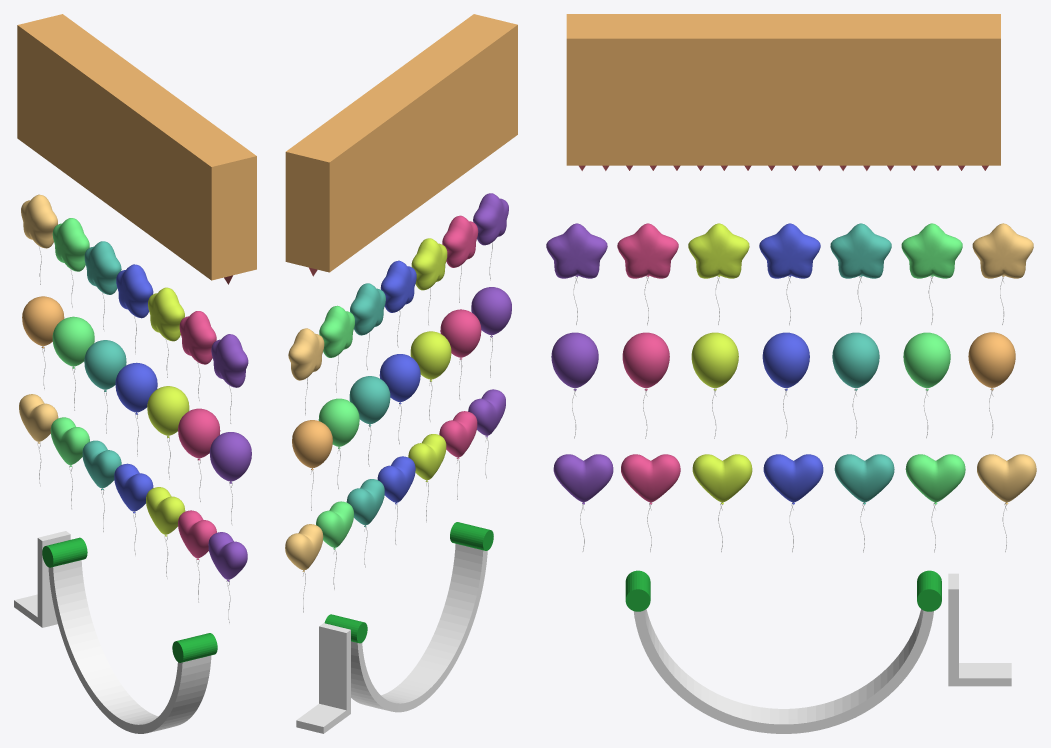
File: Baloniki 3.fbx
3 renders of one model, left to right at view 1: azimuth 30°, elevation 25°; view 2: azimuth 150°, elevation 25°; view 3: azimuth 270°, elevation 25°, orthographic. The views are drawn at different scales.
Parts seen in each view (by area): view 1: Torus.019, Torus, Cube.001, NurbsPath.020, NurbsPath.022, NurbsPath.031, NurbsPath.025, NurbsPath.030, NurbsPath.024, NurbsPath.007, NurbsPath.016, NurbsPath.041 (+12 smaller); view 2: Torus.019, Torus, Cube.001, NurbsPath.007, NurbsPath.024, NurbsPath.030, NurbsPath.020, NurbsPath.022, NurbsPath.025, NurbsPath.031, NurbsPath.044, NurbsPath.038 (+12 smaller); view 3: Torus.019, Torus, Cube.001, NurbsPath.041, NurbsPath.040, NurbsPath.044, NurbsPath.014, NurbsPath.038, NurbsPath.039, NurbsPath.016, NurbsPath.021, NurbsPath.023 (+12 smaller).
Boxes of the visible parts, x1=… form: Torus.019: x1=17, y1=14, x2=256, y2=280; Torus: x1=42, y1=537, x2=217, y2=733; Cube.001: x1=14, y1=531, x2=70, y2=627; NurbsPath.020: x1=209, y1=432, x2=251, y2=525; NurbsPath.022: x1=178, y1=408, x2=220, y2=502; NurbsPath.031: x1=52, y1=316, x2=94, y2=410; NurbsPath.025: x1=115, y1=362, x2=157, y2=456; NurbsPath.030: x1=84, y1=340, x2=126, y2=433; NurbsPath.024: x1=147, y1=386, x2=189, y2=479; NurbsPath.007: x1=22, y1=296, x2=64, y2=389; NurbsPath.016: x1=211, y1=334, x2=248, y2=423; NurbsPath.041: x1=52, y1=218, x2=89, y2=307; Torus.019: x1=285, y1=14, x2=517, y2=272; Torus: x1=324, y1=522, x2=493, y2=712; Cube.001: x1=296, y1=623, x2=350, y2=733; NurbsPath.007: x1=292, y1=420, x2=332, y2=510; NurbsPath.024: x1=410, y1=331, x2=451, y2=421; NurbsPath.030: x1=349, y1=376, x2=390, y2=466; NurbsPath.020: x1=471, y1=287, x2=511, y2=377; NurbsPath.022: x1=440, y1=309, x2=481, y2=399; NurbsPath.025: x1=379, y1=354, x2=420, y2=444; NurbsPath.031: x1=318, y1=398, x2=359, y2=489; NurbsPath.044: x1=288, y1=328, x2=324, y2=415; NurbsPath.038: x1=411, y1=238, x2=447, y2=324; Torus.019: x1=566, y1=14, x2=1000, y2=165; Torus: x1=625, y1=570, x2=941, y2=733; Cube.001: x1=948, y1=573, x2=1011, y2=686; NurbsPath.041: x1=901, y1=223, x2=962, y2=324; NurbsPath.040: x1=830, y1=223, x2=891, y2=324; NurbsPath.044: x1=972, y1=223, x2=1033, y2=324; NurbsPath.014: x1=617, y1=223, x2=678, y2=325; NurbsPath.038: x1=688, y1=223, x2=749, y2=324; NurbsPath.039: x1=759, y1=223, x2=820, y2=325; NurbsPath.016: x1=546, y1=223, x2=607, y2=324; NurbsPath.021: x1=905, y1=454, x2=965, y2=552; NurbsPath.023: x1=977, y1=454, x2=1036, y2=552.
Size of the model in its own units: 256 by 3278 by 2070.
1 material, 1 textured.
